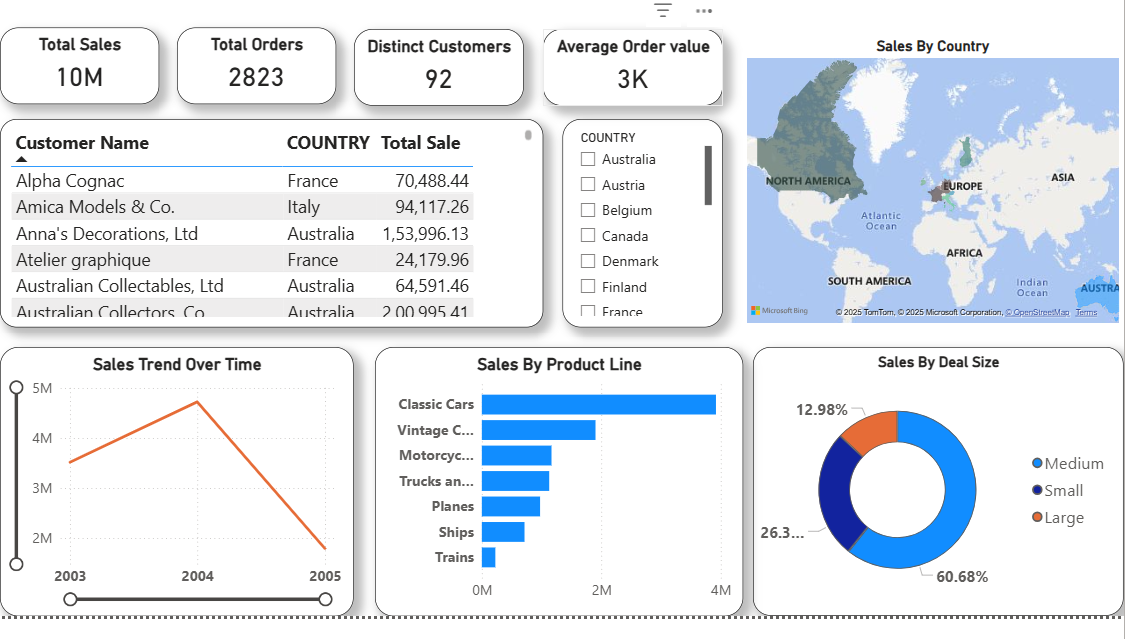

This screenshot's page, from the dashboard's own definition file:
{"tool":"powerbi","page":{"name":"Page 1","canvas":[1280,720],"ordinal":0},"visuals":[{"type":"card","title":"Total Sales","fields":{"Values":["Sum(sales_data_sample(in).SALES)"]},"box":[0,49.5,181.1,87.1],"z":0},{"type":"card","title":"Total Orders","fields":{"Values":["CountNonNull(sales_data_sample(in).ORDERNUMBER)"]},"box":[201.6,49.5,181.1,87.1],"z":1000},{"type":"card","title":"Distinct Customers","fields":{"Values":["Count(sales_data_sample(in).CUSTOMERNAME)"]},"box":[403.1,51.2,193,87.1],"z":2000},{"type":"card","title":"Average Order value","fields":{"Values":["sales_data_sample(in).avg_order_value"]},"box":[618.4,51.2,205,87.1],"z":3000},{"type":"lineChart","title":"Sales Trend Over Time","fields":{"Category":["sales_data_sample(in).Order_Date.Variation.Date Hierarchy.Year","sales_data_sample(in).Order_Date.Variation.Date Hierarchy.Quarter","sales_data_sample(in).Order_Date.Variation.Date Hierarchy.Month","sales_data_sample(in).Order_Date.Variation.Date Hierarchy.Day"],"Y":["Sum(sales_data_sample(in).SALES)"]},"box":[0,414.1,402.5,306.4],"z":4000},{"type":"clusteredBarChart","title":"Sales By Product Line","fields":{"Category":["sales_data_sample(in).PRODUCTLINE"],"Y":["Sum(sales_data_sample(in).SALES)"]},"box":[427,413.4,411.7,307.5],"z":5000},{"type":"donutChart","title":"Sales By Deal Size","fields":{"Y":["Sum(sales_data_sample(in).SALES)"],"Category":["sales_data_sample(in).DEALSIZE"]},"box":[857.5,413.4,421.9,305.8],"z":6000},{"type":"filledMap","title":"Sales By Country","fields":{"Series":["sales_data_sample(in).SALES"],"Category":["sales_data_sample(in).COUNTRY"]},"box":[857.5,95.7,421.9,317.7],"z":6001},{"type":"tableEx","fields":{"Values":["sales_data_sample(in).CUSTOMERNAME","sales_data_sample(in).COUNTRY","Sum(sales_data_sample(in).SALES)"]},"box":[0,153.7,618.4,237.4],"z":6002},{"type":"slicer","fields":{"Values":["sales_data_sample(in).COUNTRY"]},"box":[879.7,8.5,399.7,80.3],"z":6003},{"type":"slicer","fields":{"Values":["sales_data_sample(in).Order_Date.Variation.Date Hierarchy.Year"]},"box":[637.2,153.7,220.4,237.4],"z":6004}]}

Visuals, with their boxes in screenshot pixels (x1, y1, x2, y2), scaled from the page's 1280x720 canvas onto the 1132x639 screenshot:
"Total Sales" card: Rect(0, 44, 160, 121)
"Total Orders" card: Rect(178, 44, 338, 121)
"Distinct Customers" card: Rect(356, 45, 527, 123)
"Average Order value" card: Rect(547, 45, 728, 123)
"Sales Trend Over Time" lineChart: Rect(0, 368, 356, 638)
"Sales By Product Line" clusteredBarChart: Rect(378, 367, 742, 638)
"Sales By Deal Size" donutChart: Rect(758, 367, 1131, 638)
"Sales By Country" filledMap: Rect(758, 85, 1131, 367)
tableEx - sales_data_sample(in).CUSTOMERNAME x sales_data_sample(in).COUNTRY: Rect(0, 136, 547, 347)
slicer - sales_data_sample(in).COUNTRY: Rect(778, 8, 1131, 79)
slicer - sales_data_sample(in).Order_Date.Variation.Date Hierarchy.Year: Rect(564, 136, 758, 347)
